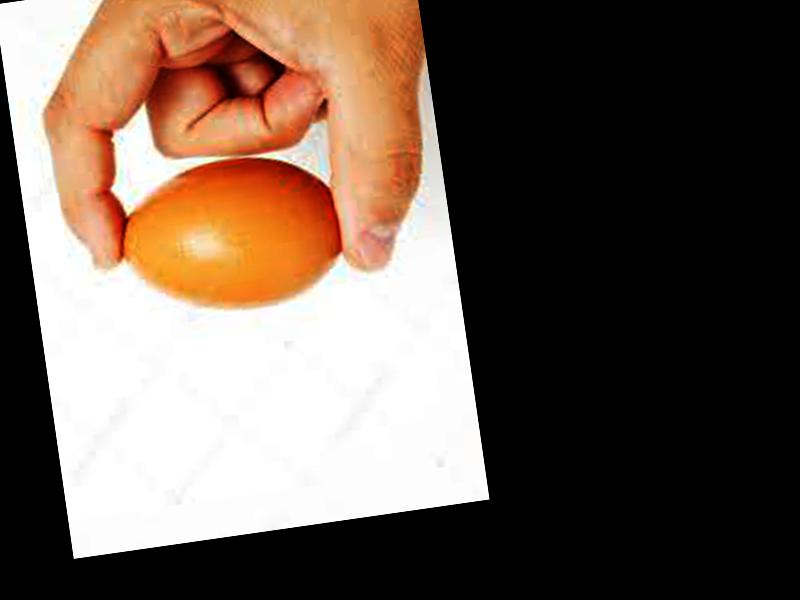Eggs: (107, 144, 349, 327)
